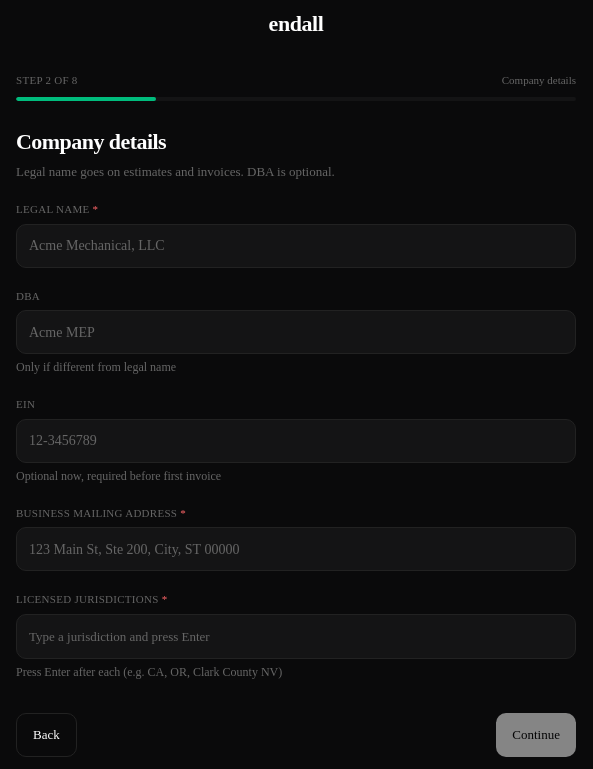
it: OnboardingWizard › does not advance when the proxy responds with 501
Check: the text "Step 2 of 8" is shown, box [16,72,78,88]
In the field with placeholder "Acme Mechanical, LLC": point(296, 246) [16,224,576,268], type "Acme MEP, LLC"
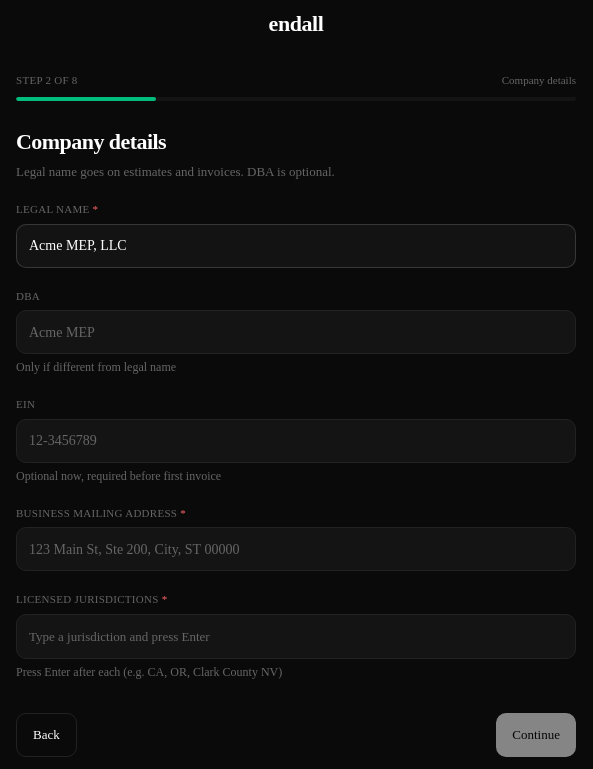
In the field with placeholder "123 Main St, Ste 200, City, ST 00000": point(296, 549) [16,527,576,571], type "1 Main St, Hartford CT"
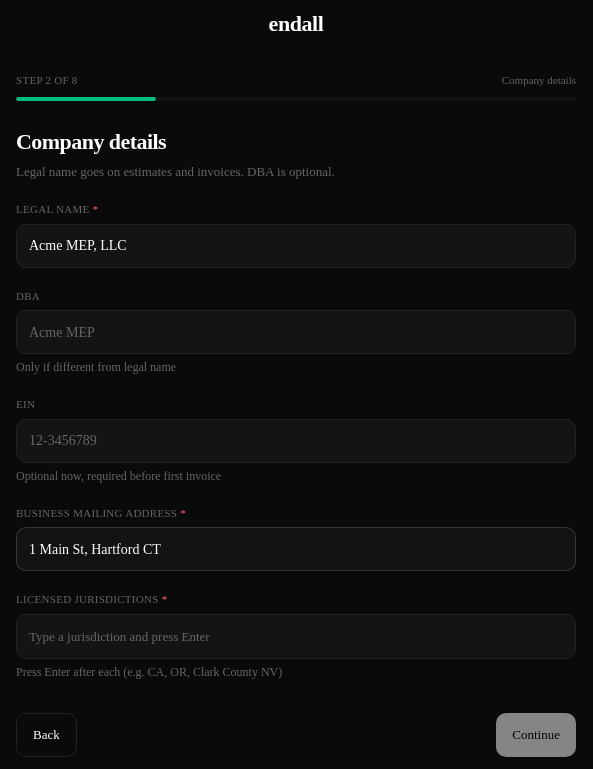
In the field with placeholder "Type a jurisdiction and press Enter": point(296, 636) [25,622,567,650], type "CT"
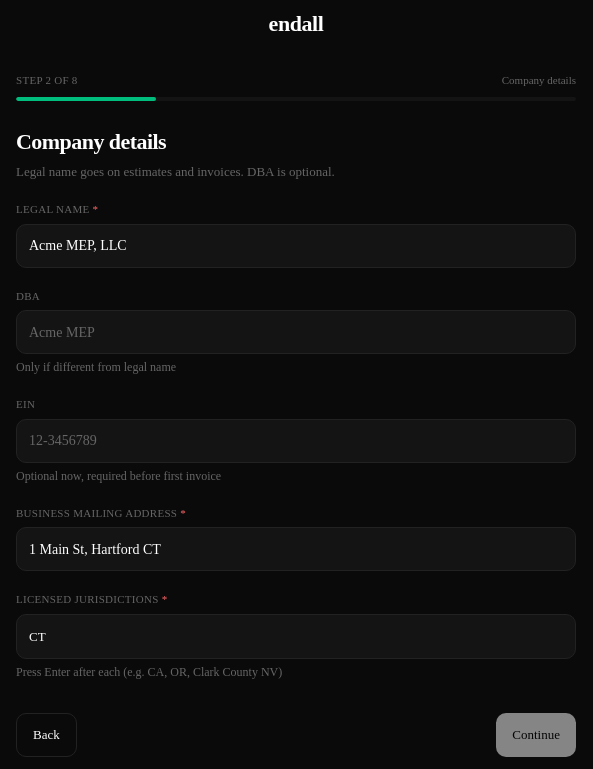
Press Enter
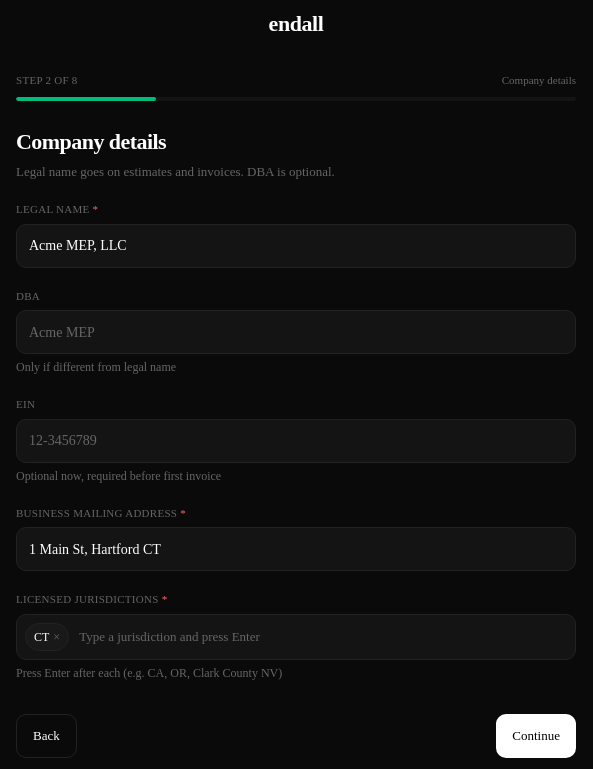
Click the button "Continue": point(536, 736) [496,714,576,758]
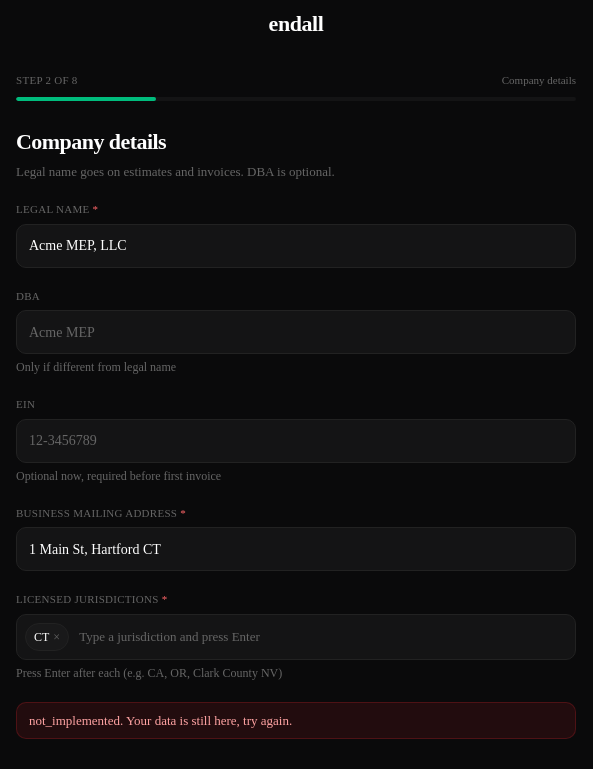
Check: the text "Step 2 of 8" is shown, box [16,72,78,88]
Check: the text "not_implemented. Your data is still here, try again." is shown, box [16,702,576,739]
